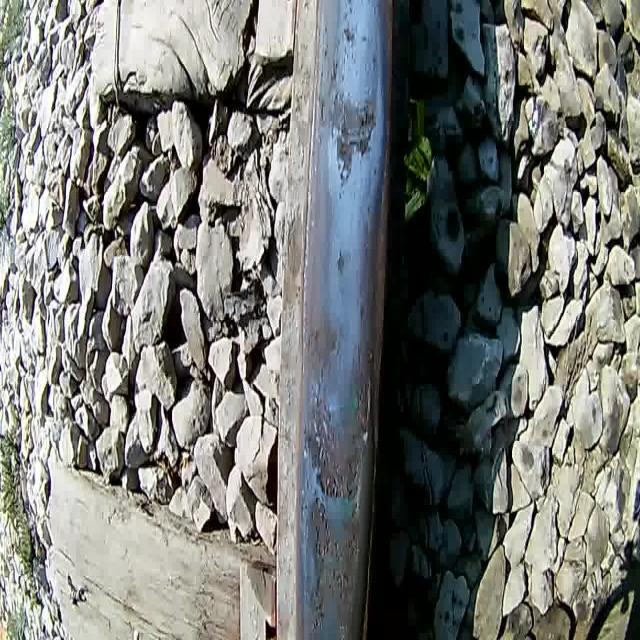Cracks: (355, 92, 381, 164)
Spallings: (302, 399, 361, 500), (306, 494, 333, 633), (331, 526, 362, 605), (354, 368, 373, 443)
Squats: (298, 362, 379, 502), (292, 493, 369, 640), (314, 64, 383, 192), (299, 316, 344, 371), (332, 0, 374, 54), (334, 242, 351, 284)
